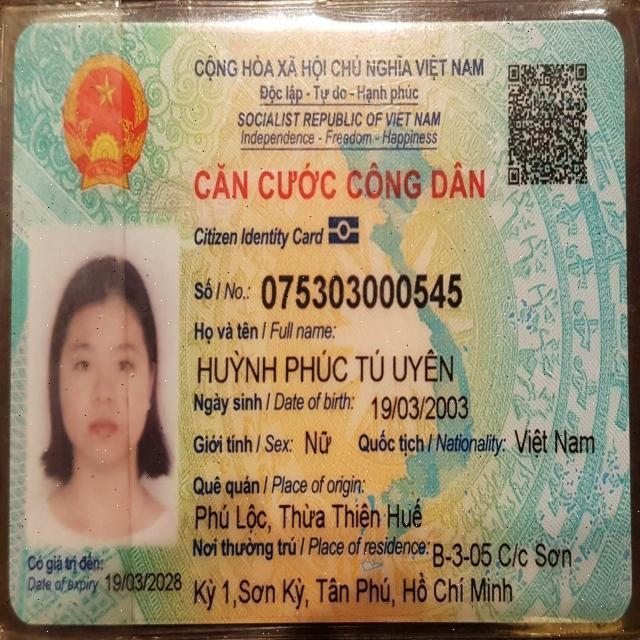current_place: (192, 570, 514, 613), (431, 539, 573, 572)
dob: (370, 393, 469, 422)
expire_date: (104, 569, 183, 595)
gender: (303, 425, 333, 458)
id: (260, 271, 465, 315)
name: (196, 345, 455, 387)
nationality: (512, 426, 596, 461)
origin_place: (194, 496, 424, 535)
